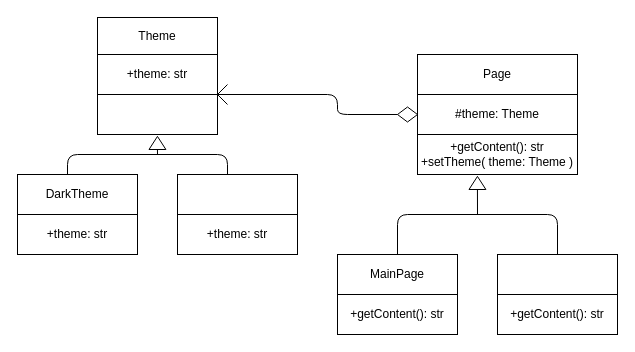
Image size: 635x352. Some labels were removed from this diagram. The shapes that lost their labels are listed below. From the top down, each one's box as (x1, y1, x2, y2) in pixels, then its label:
(96, 94, 218, 134): +getColor(): str
(176, 174, 298, 214): LightTheme
(496, 254, 618, 294): AboutPage
